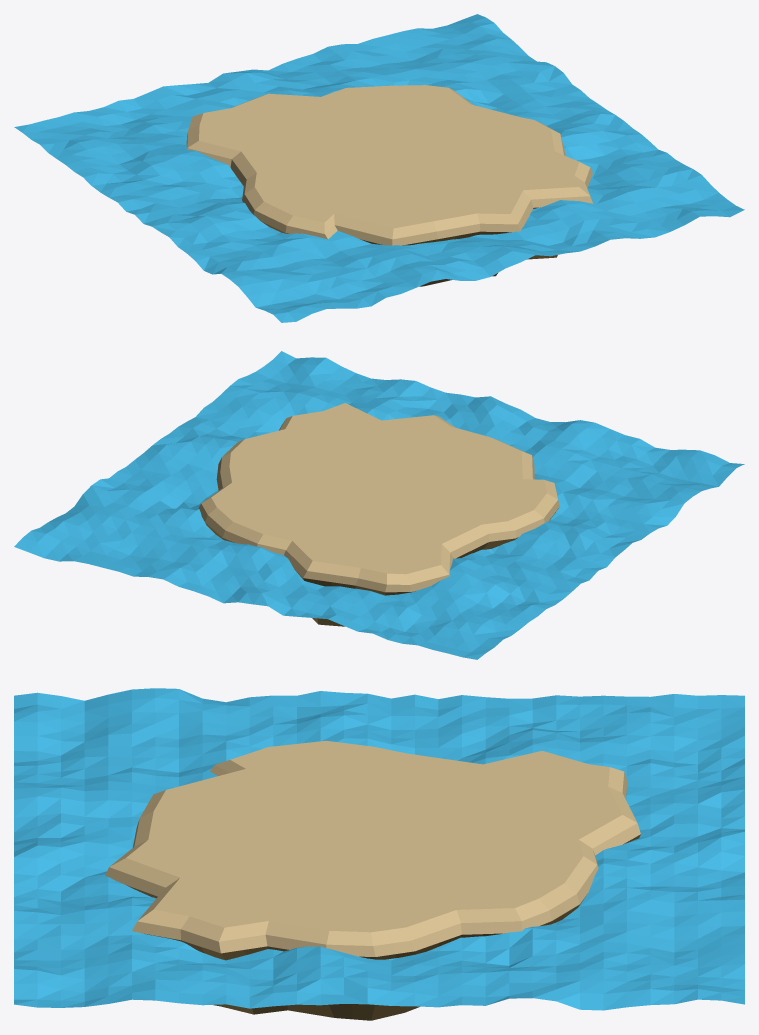
Rendered from island2.gltf.
3 views of the same model, one above another, from view 1: azimuth 30°, elevation 25°; view 2: azimuth 150°, elevation 25°; view 3: azimuth 270°, elevation 25° (orthographic). The views are drawn at different scales.
Parts seen in each view (by area): view 1: Plane.001, Plane; view 2: Plane.001, Plane; view 3: Plane.001, Plane.
Part boxes in pixels (<box>): Plane.001: <box>14,14,744,322</box>; Plane: <box>186,85,593,286</box>; Plane.001: <box>14,351,744,659</box>; Plane: <box>198,403,559,626</box>; Plane.001: <box>14,688,744,1010</box>; Plane: <box>105,740,640,1020</box>.
Size of the model in its own units: 12 by 1.9 by 12.
Materials: 2 (1 with a texture image).
